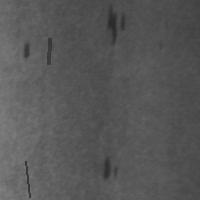inclusion: (104, 3, 127, 47), (99, 153, 121, 183), (23, 159, 31, 199), (20, 39, 32, 61), (46, 36, 51, 66)
